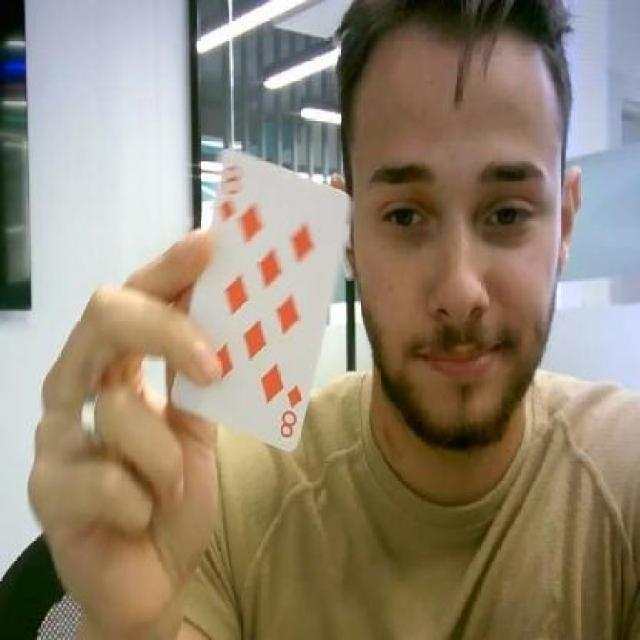8D: (278, 384, 302, 439)
